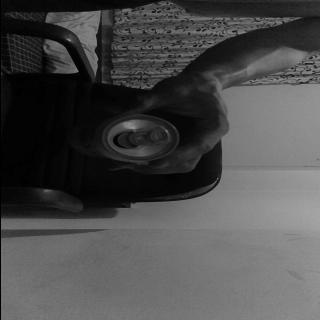plastic_bottles: (99, 114, 183, 162)
